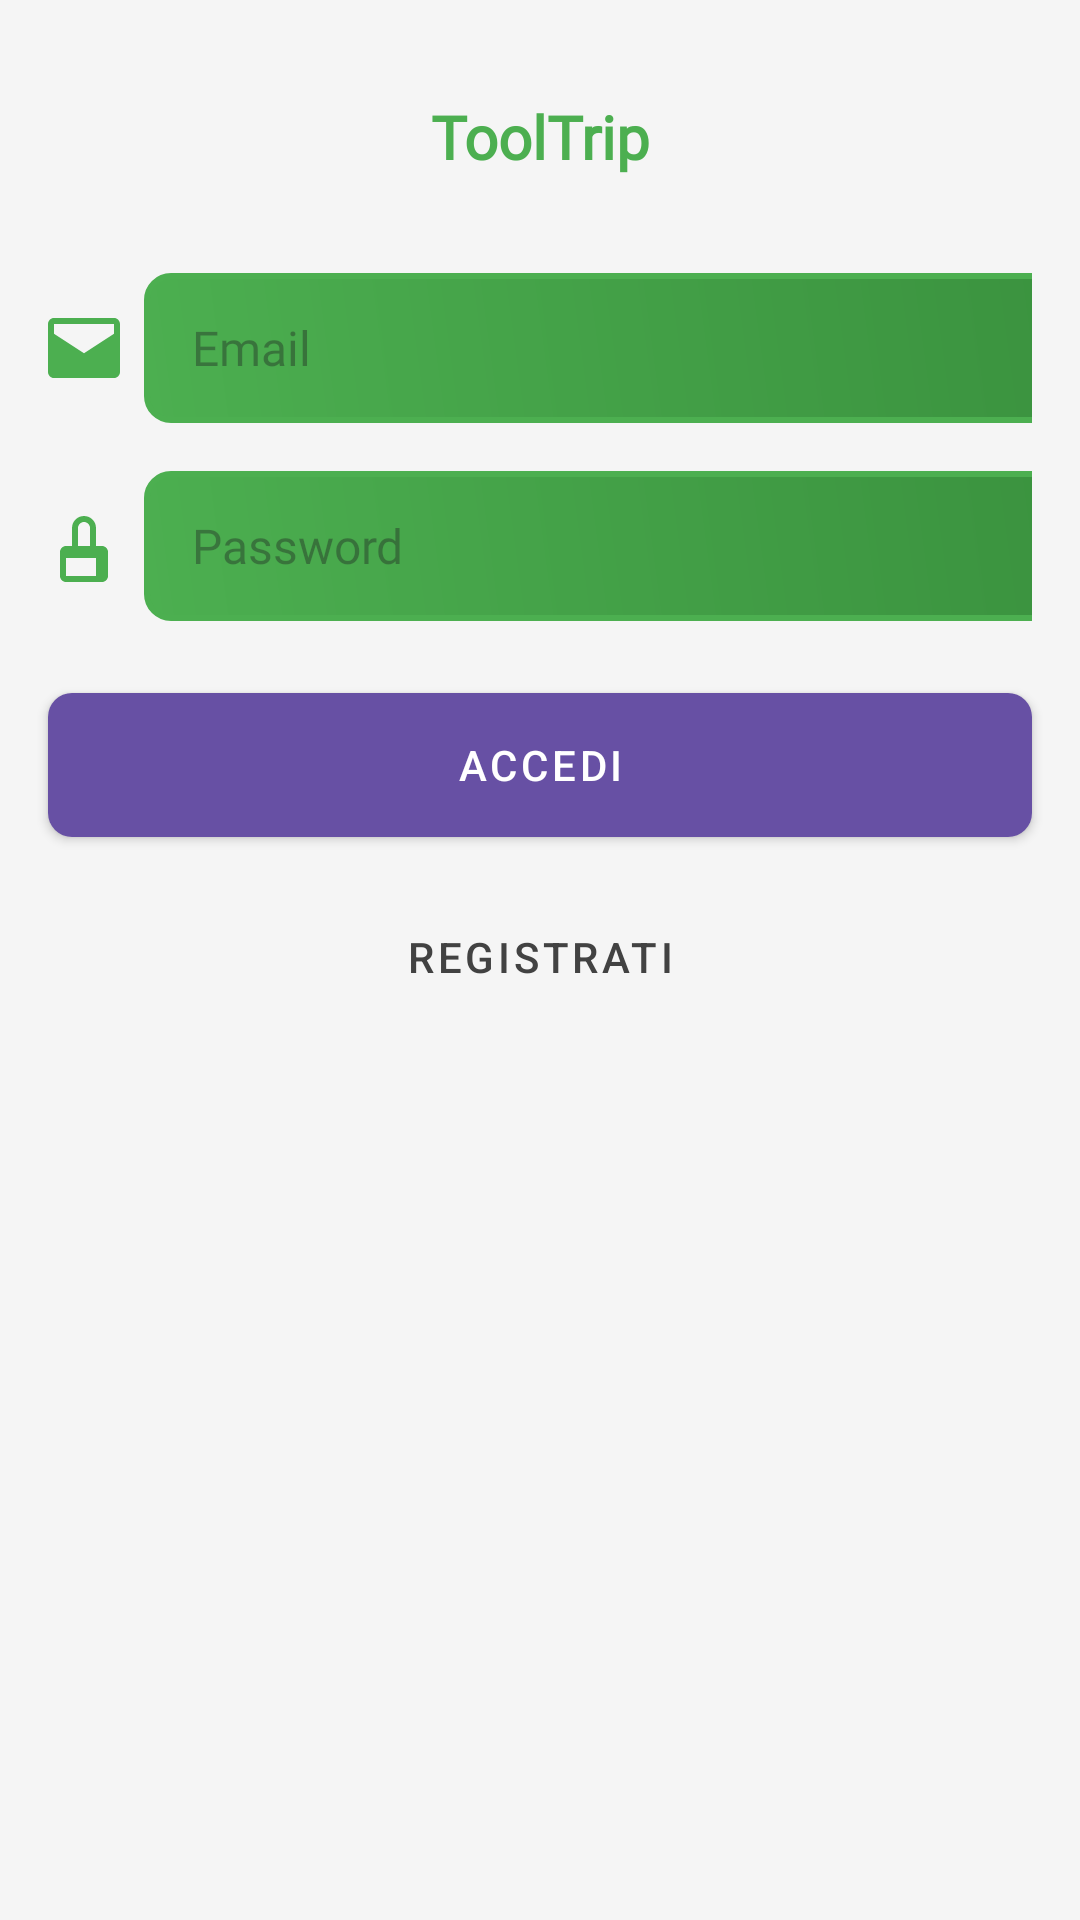

Screen size 1080x1920. Icon name, then its center in pixels as [x,y]:
lock: [84,549]
